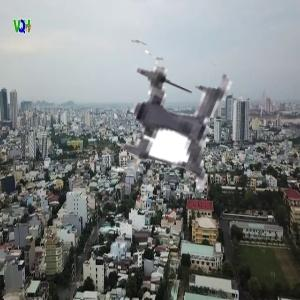drone: (92, 40, 255, 203)
